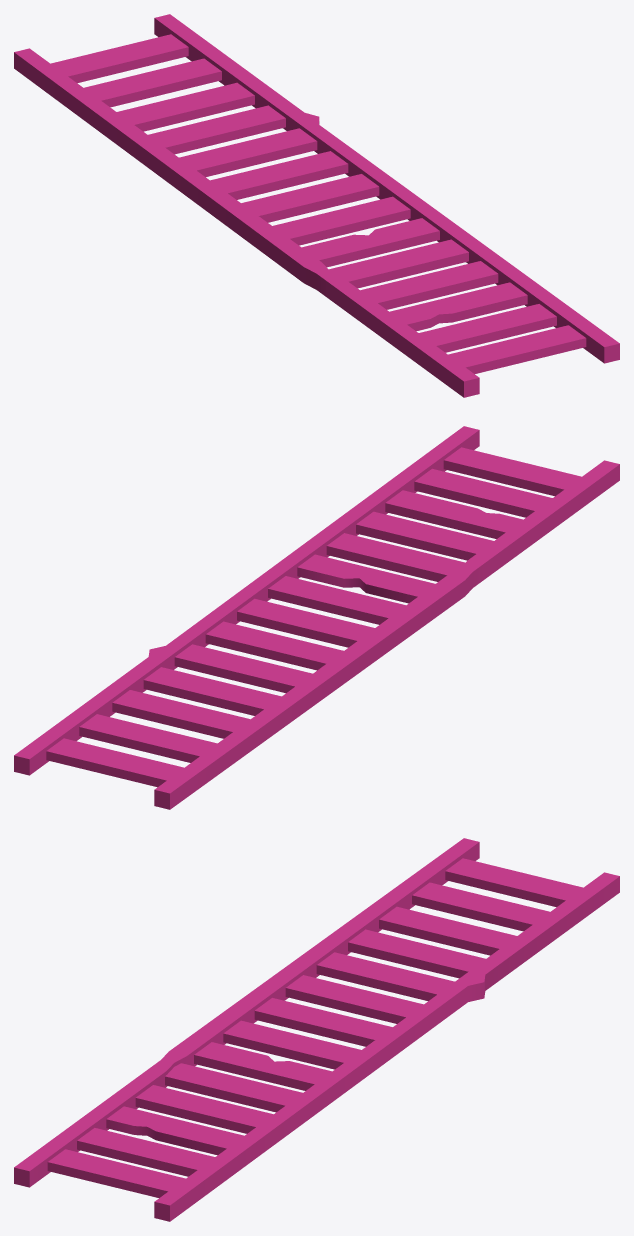
File: Ladder_1.fbx
The picture shows the model from 3 angles, top to bottom: view 1: azimuth 30°, elevation 25°; view 2: azimuth 150°, elevation 25°; view 3: azimuth 330°, elevation 25°; orthographic projection.
Visible parts, largest first — view 1: Ladder_1; view 2: Ladder_1; view 3: Ladder_1.
Boxes of the visible parts, x1=… form: Ladder_1: x1=14, y1=14, x2=619, y2=397; Ladder_1: x1=14, y1=426, x2=619, y2=809; Ladder_1: x1=14, y1=838, x2=619, y2=1221.
Bounding box in the file's own units: 21.26 × 2 × 100.
